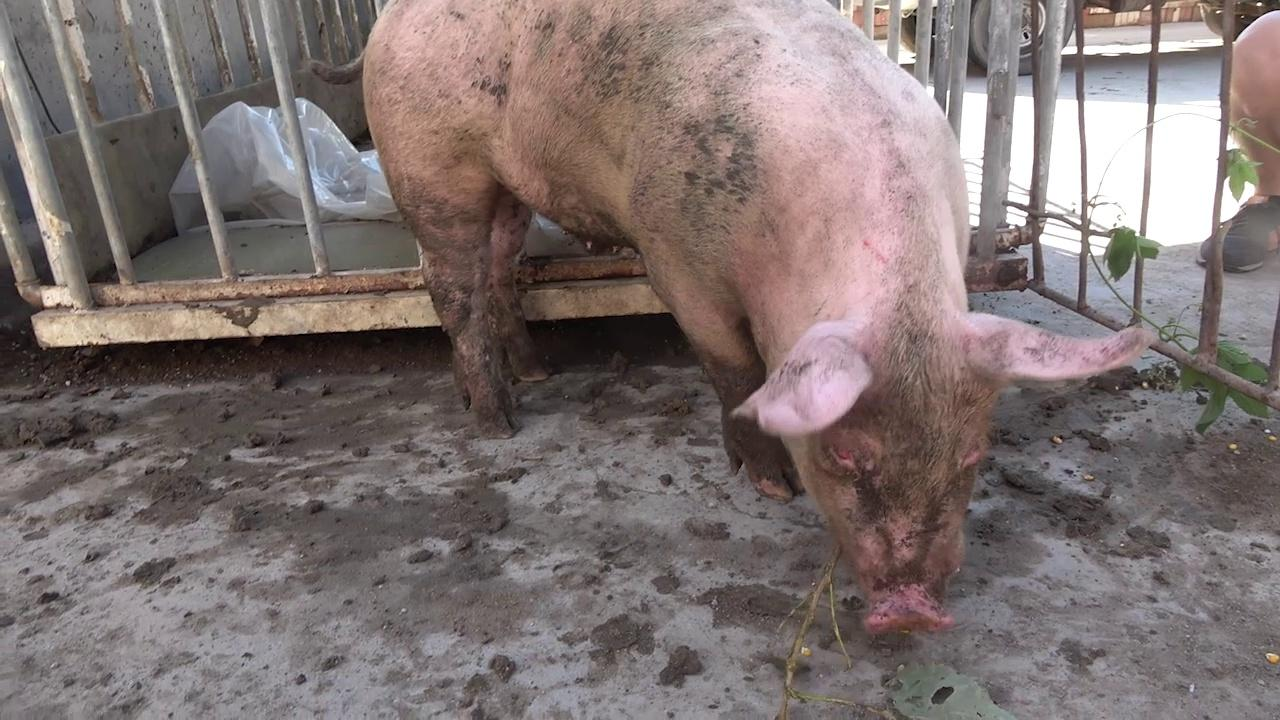Face: (720, 306, 1158, 652)
